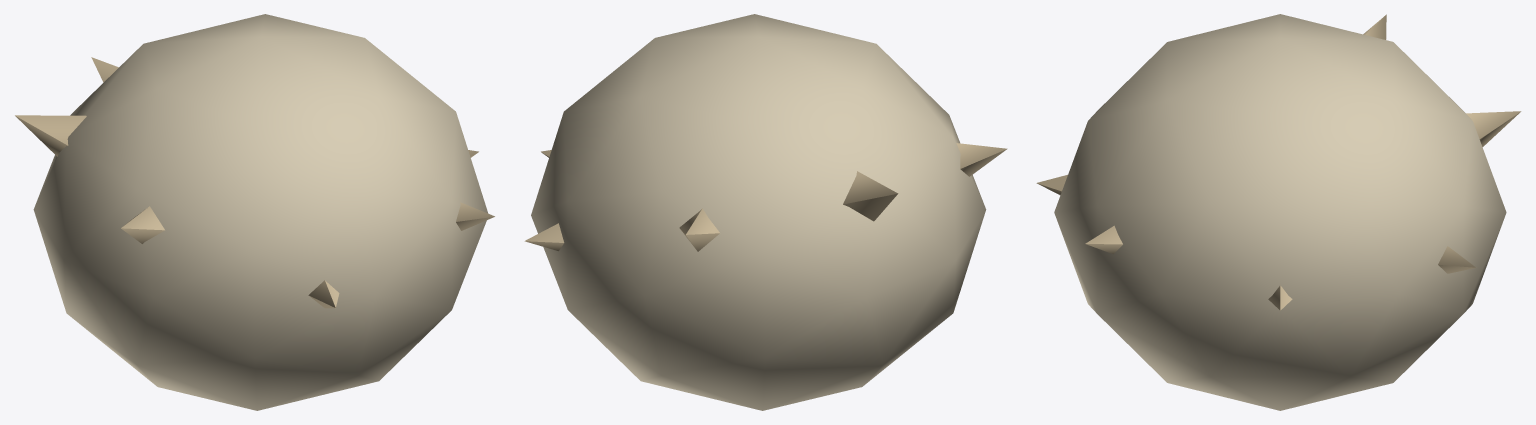
The model's file is panellet-referencia.glb.
3 renders of one model, left to right at view 1: azimuth 30°, elevation 25°; view 2: azimuth 150°, elevation 25°; view 3: azimuth 270°, elevation 25°, orthographic.
Parts seen in each view (by area): view 1: panellet-1, panellet-6, panellet-5, panellet-3, panellet-4; view 2: panellet-1, panellet-6, panellet-5, panellet-7, panellet-8; view 3: panellet-1, panellet-7, panellet-3, panellet-8.
Boxes of the visible parts, bbox=[...] form: panellet-1: bbox=[33, 14, 488, 410]; panellet-6: bbox=[15, 115, 86, 156]; panellet-5: bbox=[121, 206, 164, 243]; panellet-3: bbox=[456, 202, 494, 230]; panellet-4: bbox=[308, 280, 339, 308]; panellet-1: bbox=[531, 14, 986, 410]; panellet-6: bbox=[843, 171, 898, 221]; panellet-5: bbox=[956, 143, 1007, 176]; panellet-7: bbox=[679, 208, 719, 251]; panellet-8: bbox=[524, 223, 564, 251]; panellet-1: bbox=[1054, 14, 1506, 410]; panellet-7: bbox=[1466, 111, 1521, 146]; panellet-3: bbox=[1085, 225, 1122, 254]; panellet-8: bbox=[1438, 246, 1476, 273].
Size of the model in its own units: 0.6817 by 0.55 by 0.6946.
